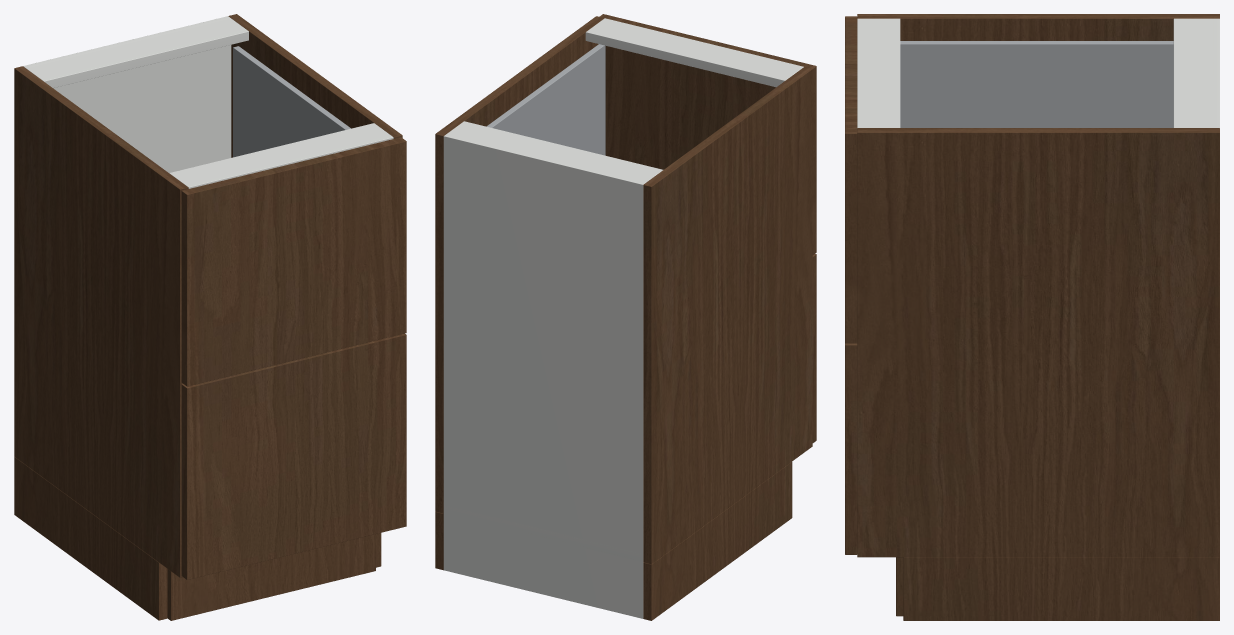
The model's file is bvc-2142.glb.
The picture shows the model from 3 angles, left to right: view 1: azimuth 30°, elevation 25°; view 2: azimuth 150°, elevation 25°; view 3: azimuth 270°, elevation 25°; orthographic projection. The views are drawn at different scales.
Visible parts, largest first — view 1: Cabinet side, Drawer front.001, Drawer front, Cabinet back, Recessed side plinth, Recessed toe board, Drawer side.003, Top support rail, Cabinet side.001, Top support rail.001; view 2: Cabinet back, Cabinet side, Drawer front.001, Recessed side plinth, Cabinet side.001, Drawer side.003, Top support rail.001, Top support rail, Cabinet bottom, Drawer front; view 3: Cabinet side.001, Drawer side.002, Recessed side plinth.001, Cabinet side, Top support rail.001, Top support rail, Drawer front.001, Drawer front, Cabinet back.
Boxes of the visible parts, x1,y1,x2,y2 form: Cabinet side: (14,66,188,577); Drawer front.001: (181,137,406,386); Drawer front: (181,333,406,579); Cabinet back: (23,16,231,172); Recessed side plinth: (14,457,167,620); Recessed toe board: (167,534,375,620); Drawer side.003: (233,46,350,157); Top support rail: (25,18,248,88); Cabinet side.001: (228,14,402,157); Top support rail.001: (169,123,393,188); Cabinet back: (443,134,645,618); Cabinet side: (643,67,812,564); Drawer front.001: (599,14,816,254); Recessed side plinth: (643,462,792,620); Cabinet side.001: (435,16,604,513); Drawer side.003: (486,44,605,155); Top support rail.001: (585,18,803,87); Top support rail: (446,121,662,183); Cabinet bottom: (445,506,643,561); Drawer front: (812,254,816,442); Cabinet side.001: (857,128,1219,557); Drawer side.002: (900,41,1173,127); Recessed side plinth.001: (903,557,1219,620); Cabinet side: (857,14,1219,40); Top support rail.001: (857,18,900,127); Top support rail: (1173,18,1216,127); Drawer front.001: (845,16,857,343); Drawer front: (845,343,857,554); Cabinet back: (1213,18,1219,127).
Size of the model in its own units: 0.4572 by 0.8763 by 0.6096.
Materials: 3 (1 with a texture image).
